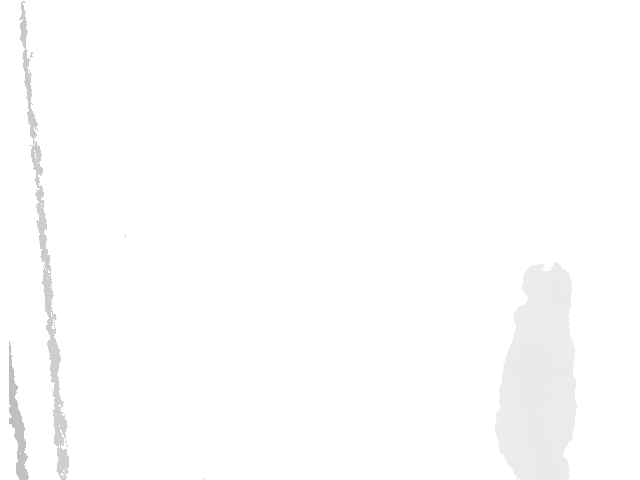head: (521, 262, 572, 322)
person: (494, 263, 576, 480)
